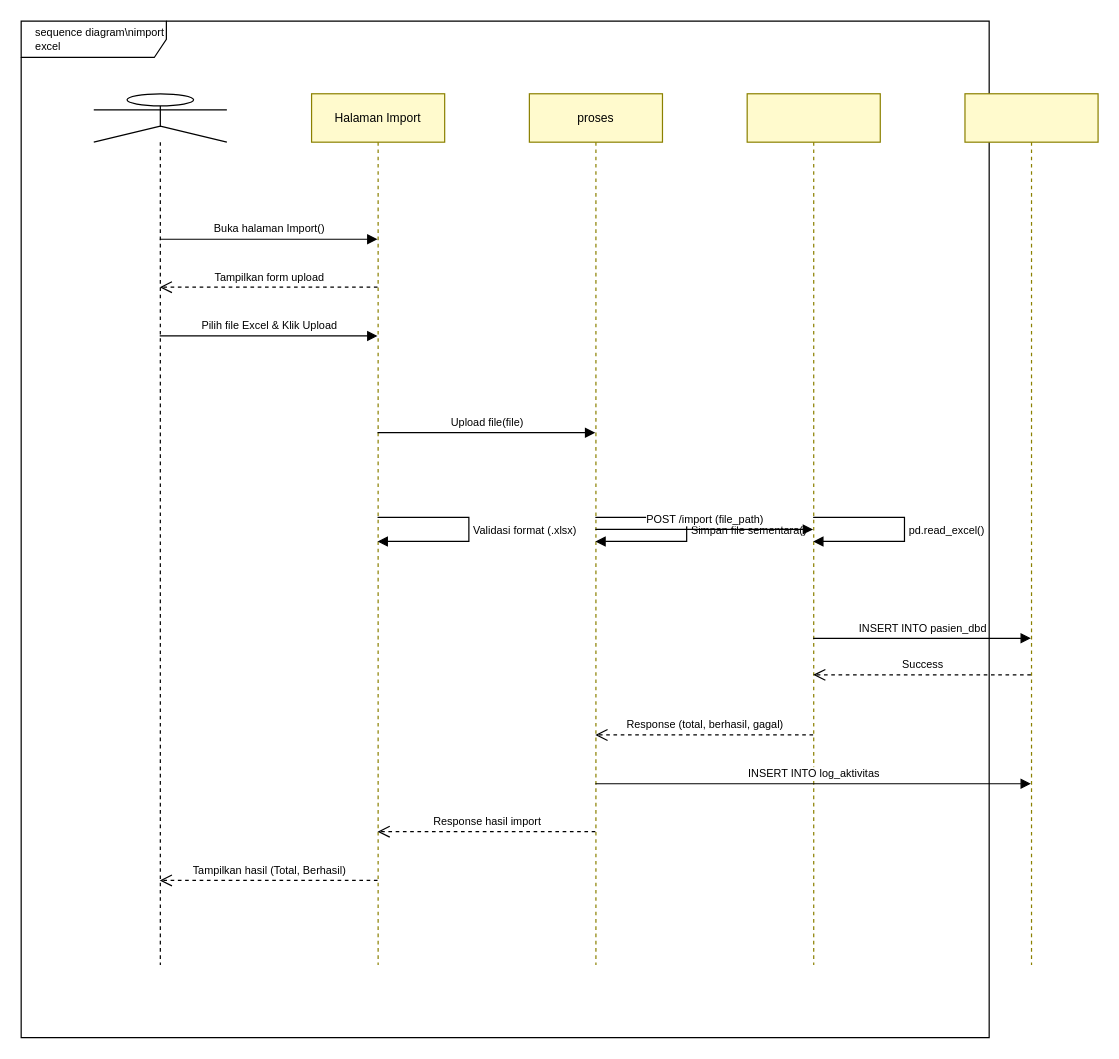
This 1119x1059 diagram has some shape labels left out. The shapes that lost their labels are listed below. From the top down, each one's box as (x1, y1, x2, y2) in pixels, then its label:
(746, 93, 880, 965): Python API
(964, 93, 1098, 965): Database
